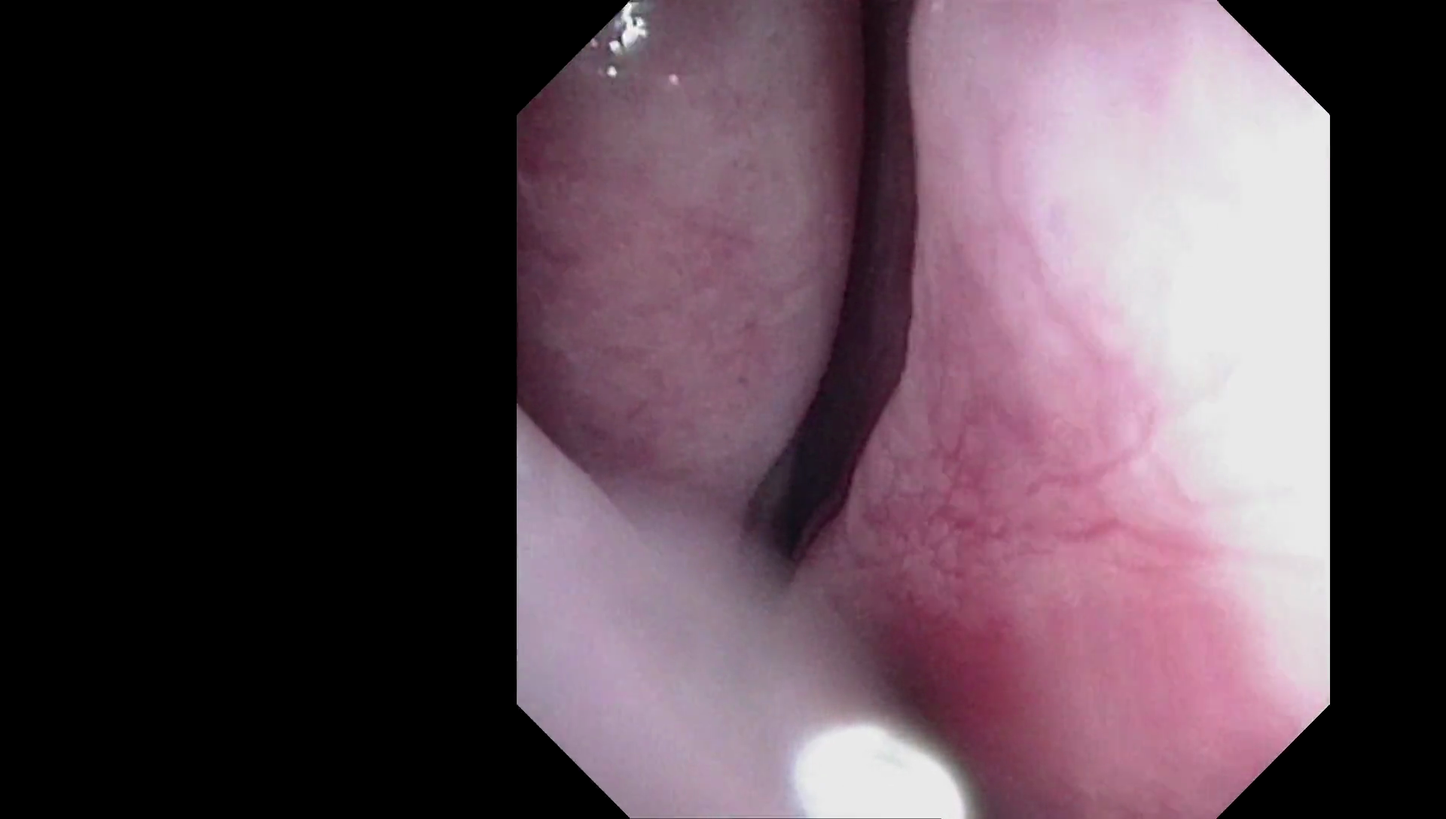close_wall: (971, 114, 1326, 698)
next: (724, 251, 918, 596), (827, 0, 901, 285)
